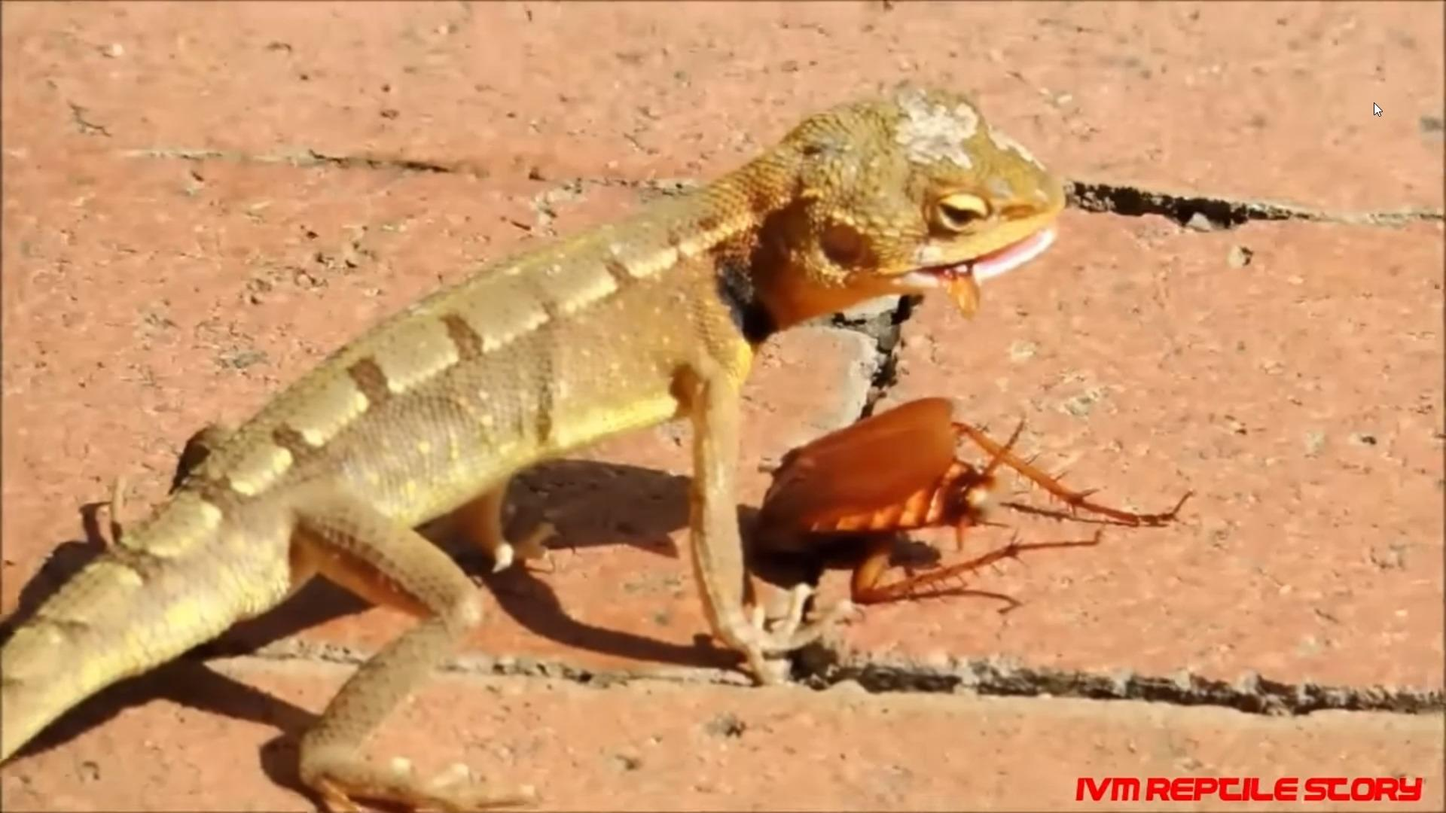cockroach: (747, 404, 1033, 614)
lizard: (104, 87, 1061, 724)
